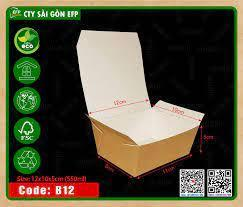box: (77, 29, 205, 177)
